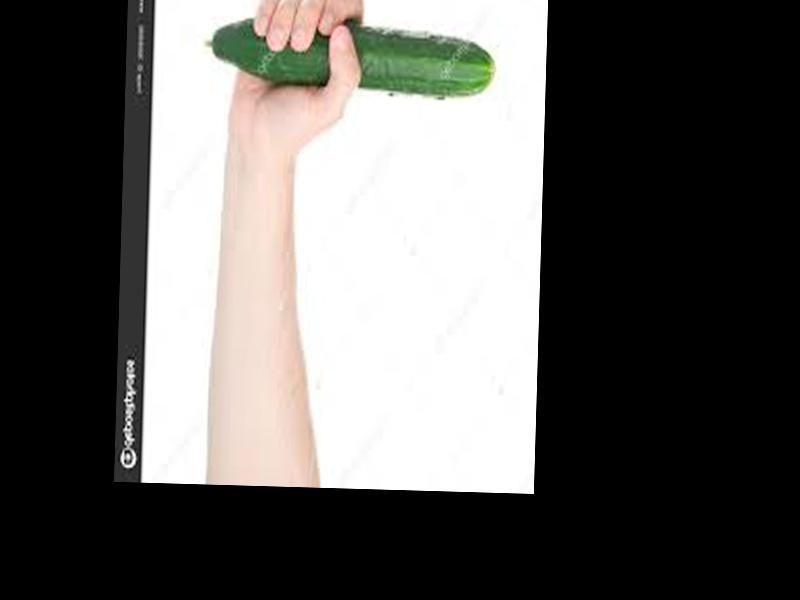Cucumber: (205, 16, 495, 98)
